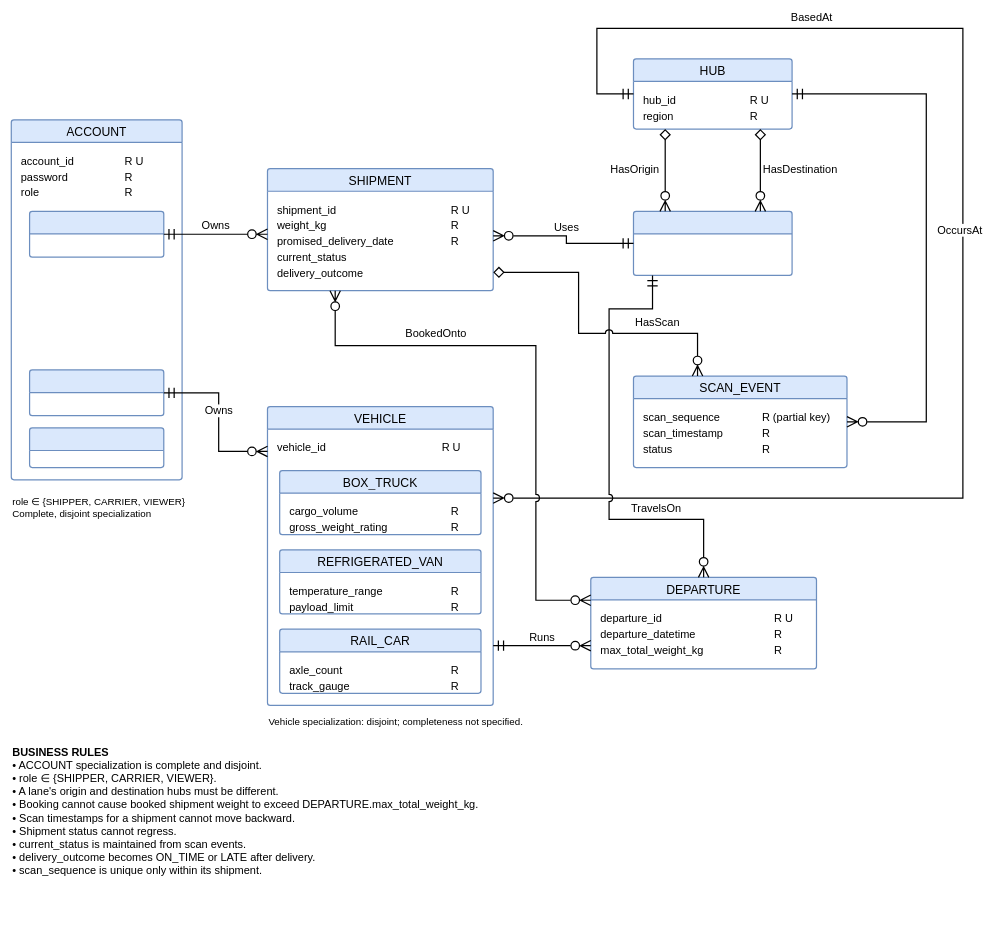
Image size: 992x926. Some labels were removed from this diagram. The centre of each missing label's shape, as x and y in pixels:
CARRIER: [96,392]
LANE: [712,243]
SHIPPER: [96,233]
VIEWER: [96,447]
